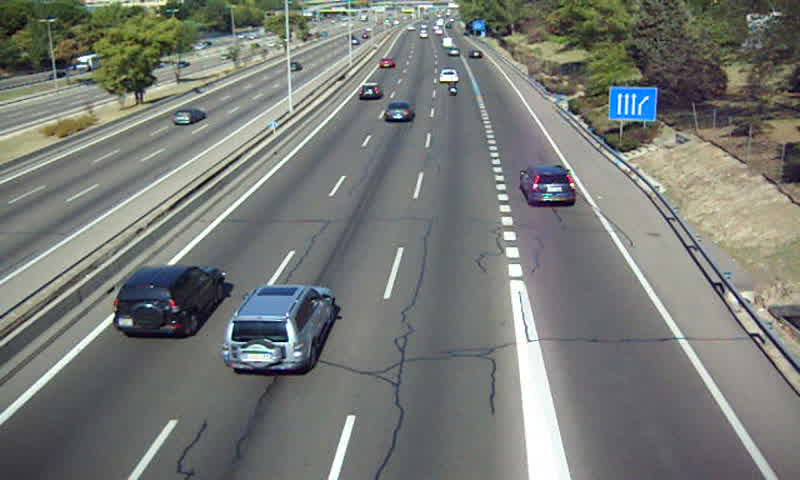car: (222, 284, 332, 373), (111, 265, 224, 337), (519, 165, 579, 207), (383, 102, 416, 124), (359, 82, 385, 102), (438, 68, 460, 83), (378, 57, 397, 69)
motorcycle: (447, 81, 459, 98)
